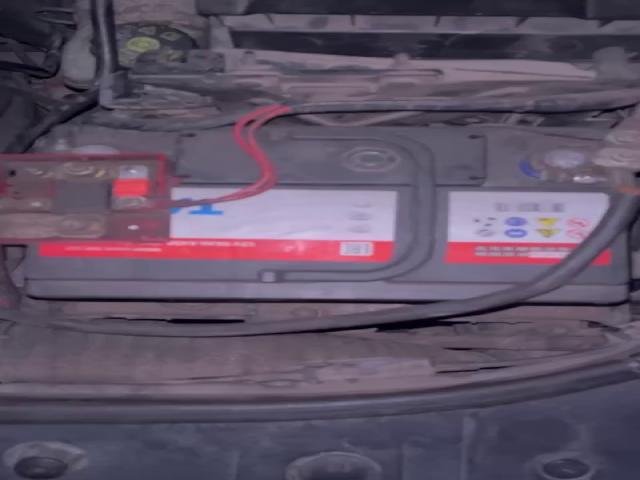accumulator: (0, 120, 638, 304)
